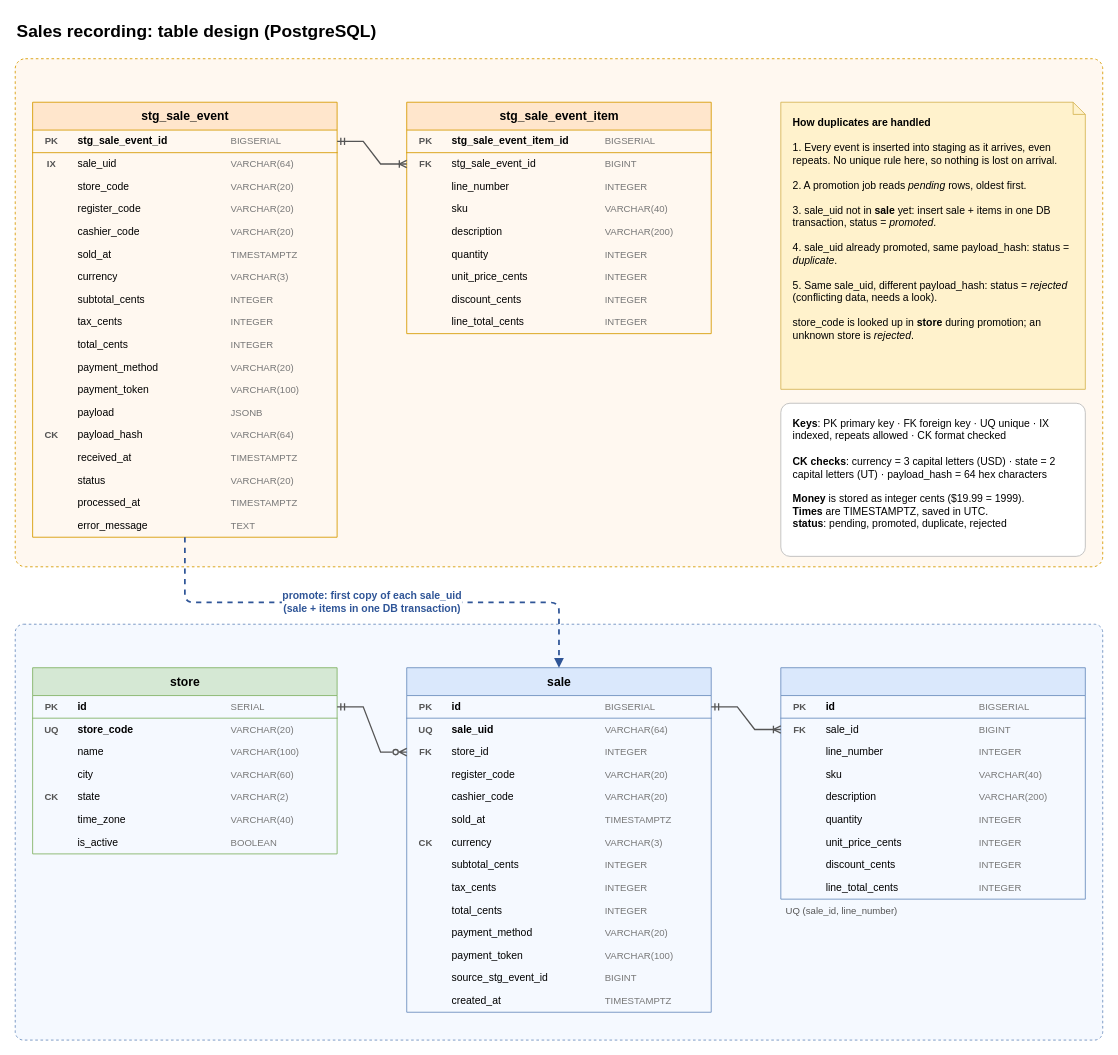
This 1118x1055 diagram has some shape labels left out. The shapes that lost their labels are listed below. From the top down, each one's box as (x1, y1, x2, y2) in pixels, then its label:
(14, 58, 1103, 567): STAGING LAYER: every sale event lands here, duplicates included
(780, 667, 1085, 899): sale_item
(14, 623, 1103, 1040): CLEAN LAYER: exactly one row per real sale (what reports and the app use)
